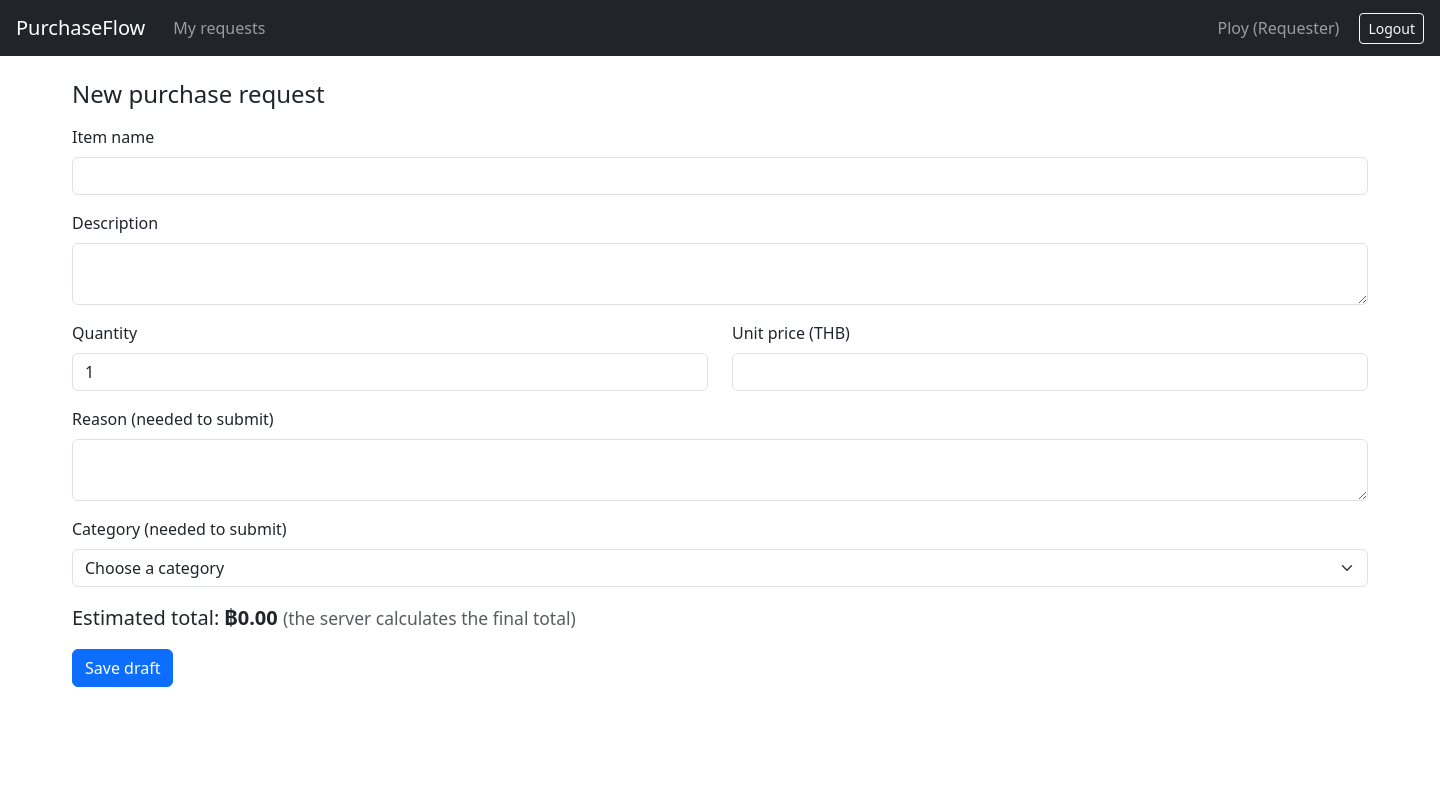
Test: request screens (component) › CT-04 / AC-23: the form shows an estimated total and the server's messages beside the fields
Replace the text in the field labelled "Quantity" with "2" at (390,372), box [72, 353, 708, 391]
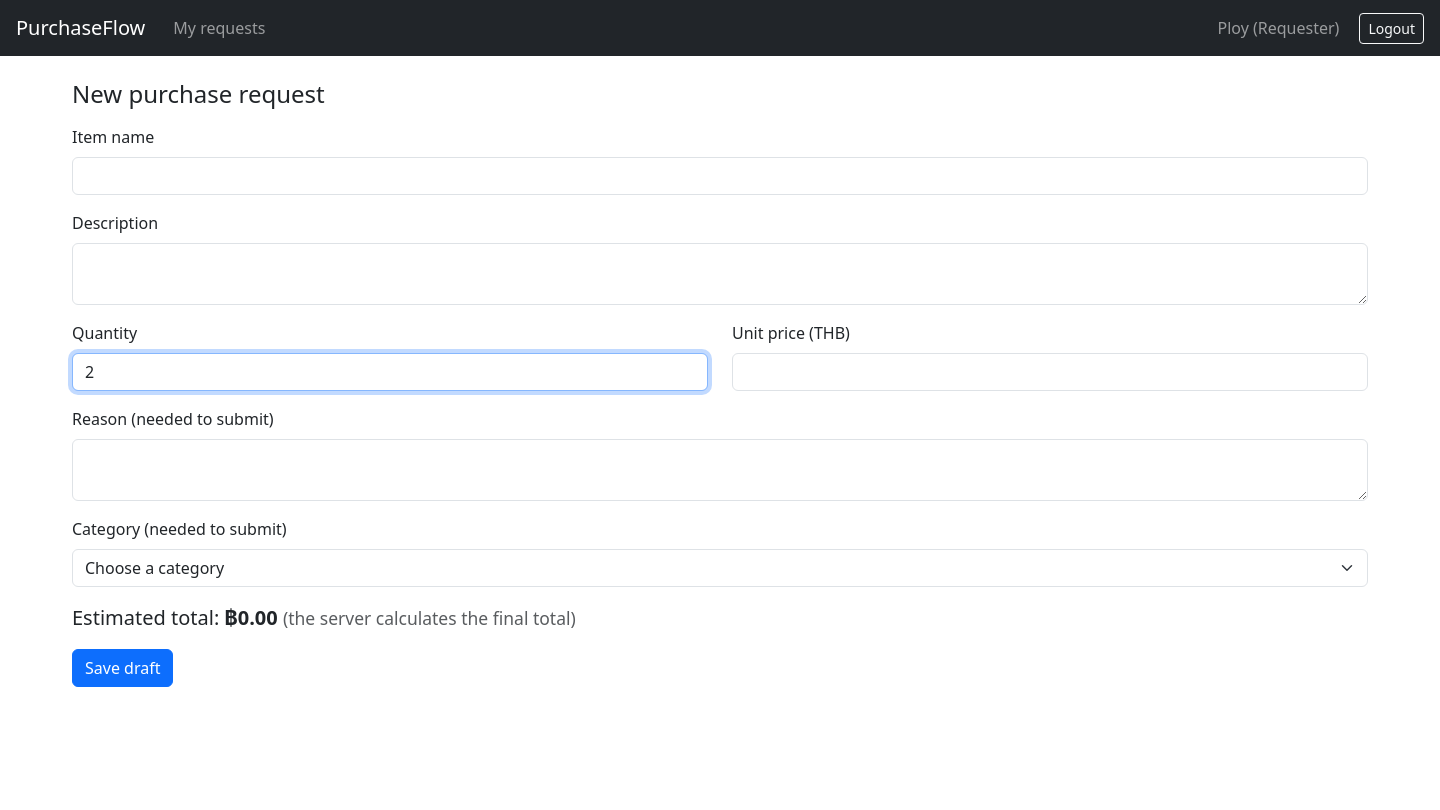
Type "10.50" into the field labelled "Unit price (THB)" at (1050,372), box [732, 353, 1368, 391]
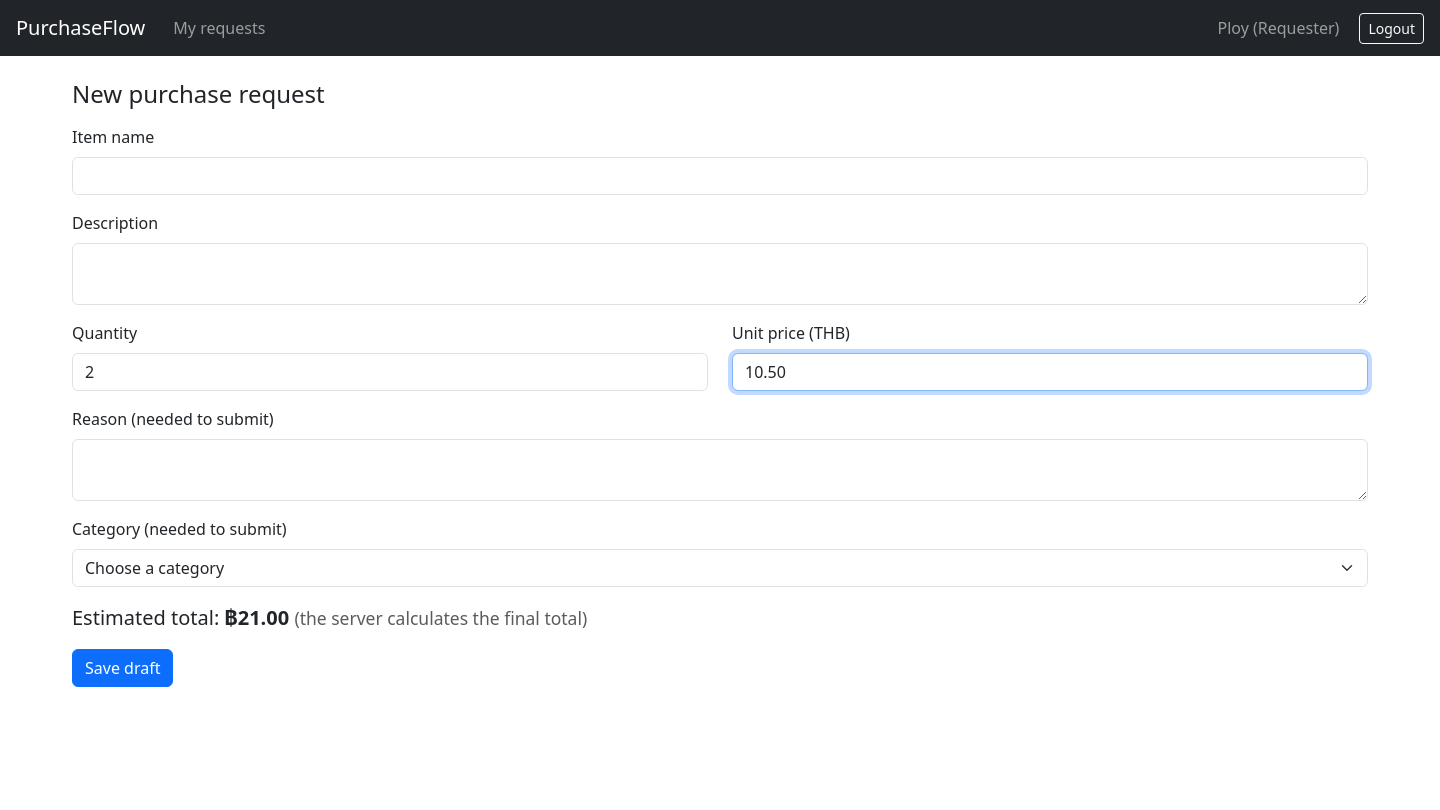
Check: the text with test id "estimate" reads "฿21.00", box [224, 604, 289, 631]
Replace the text in the field labelled "Unit price (THB)" with "abc" at (1050,372), box [732, 353, 1368, 391]
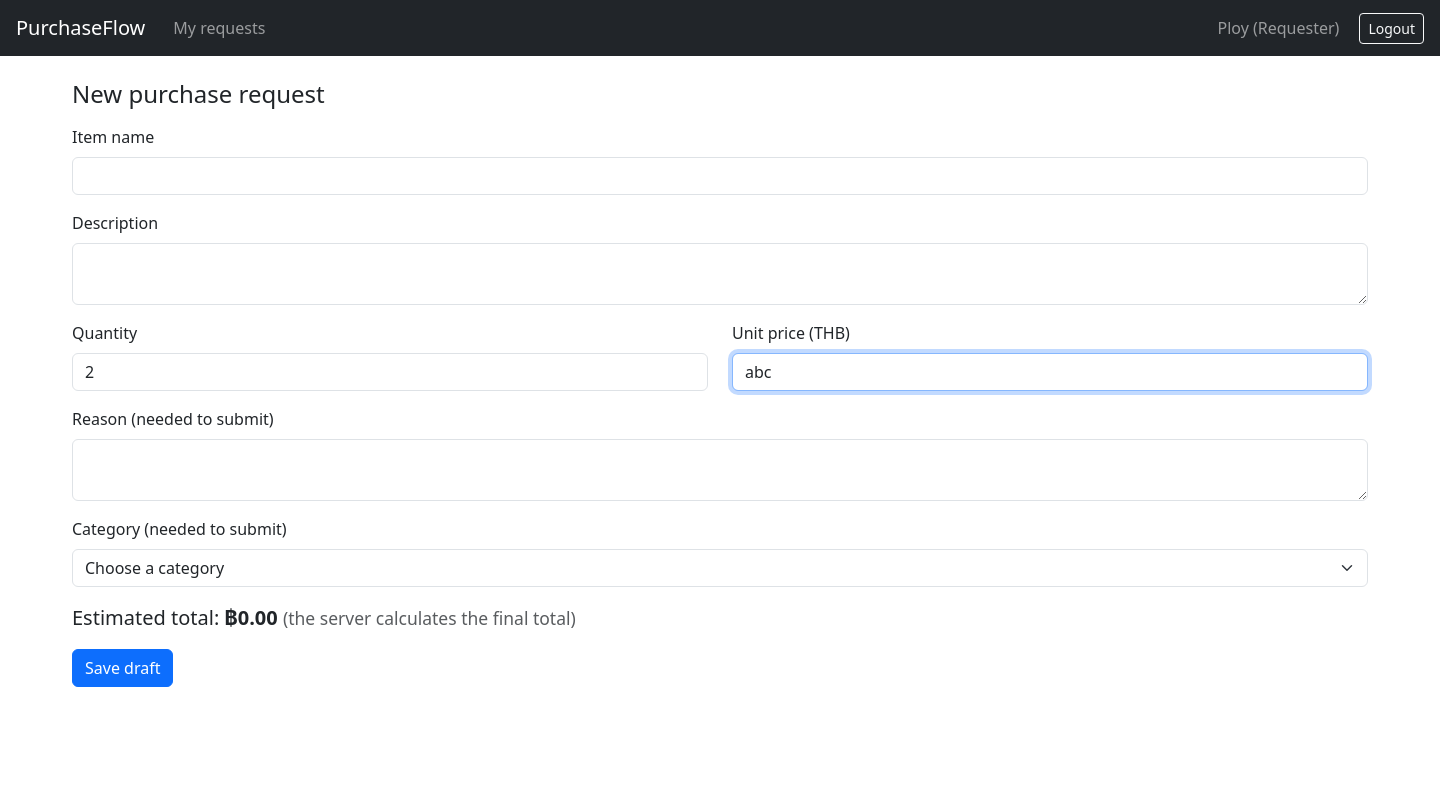
Check: the text with test id "estimate" reads "฿0.00", box [224, 604, 278, 631]
Click the button "Save draft" at (123,668), box [72, 649, 174, 687]
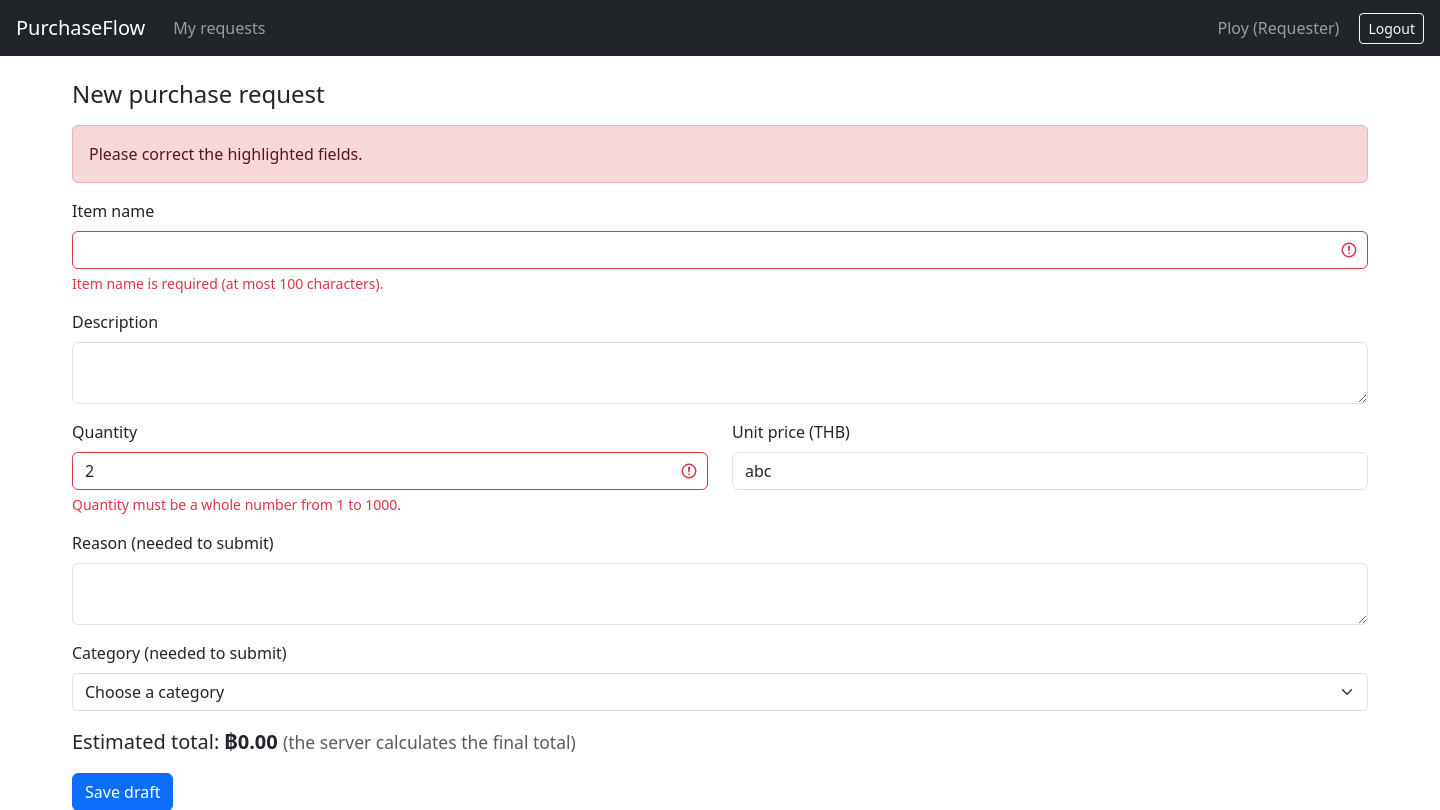
Check: the text "Item name is required (at most 100 characters)." is shown, box [72, 274, 384, 293]
Check: the text "Quantity must be a whole number from 1 to 1000." is shown, box [72, 495, 401, 514]
